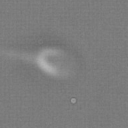normal: (1, 44, 39, 65)
